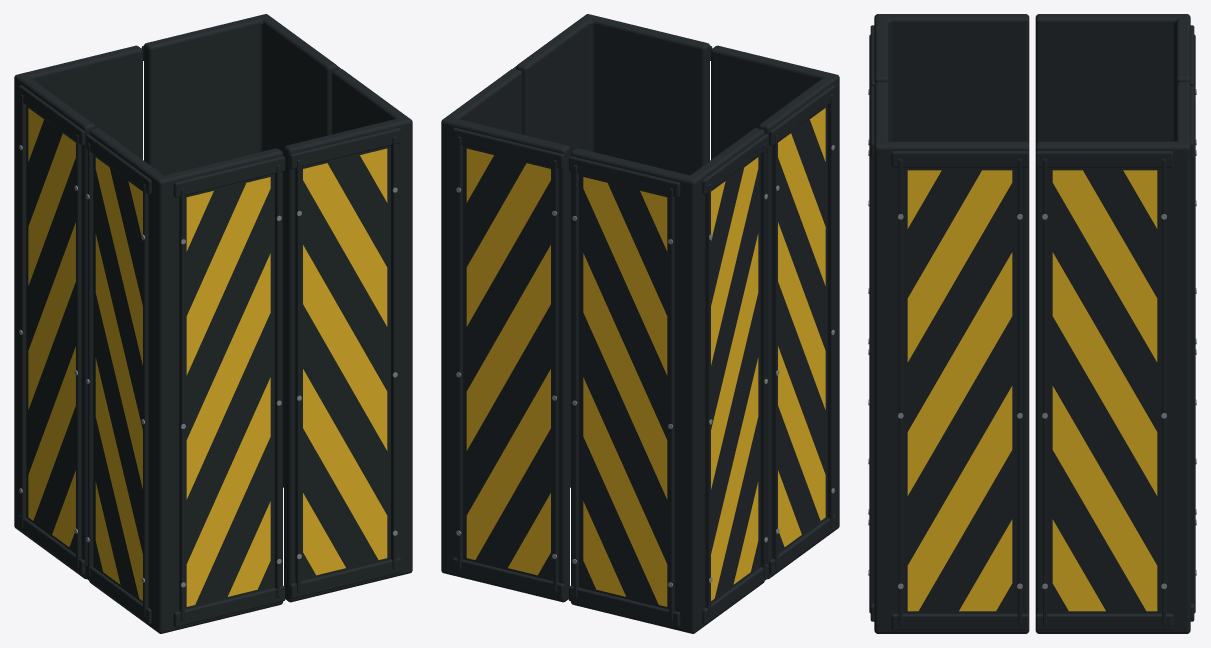
Rendered from SM_WS_RubberColumnWrap_450.fbx.
3 renders of one model, left to right at view 1: azimuth 30°, elevation 25°; view 2: azimuth 150°, elevation 25°; view 3: azimuth 270°, elevation 25°, orthographic. The views are drawn at different scales.
Visible parts, largest first — view 1: SM_WS_RubberColumnWrap_450; view 2: SM_WS_RubberColumnWrap_450; view 3: SM_WS_RubberColumnWrap_450.
Boxes of the visible parts, box(x1,y1,x2,y2) form: SM_WS_RubberColumnWrap_450: box(14, 14, 412, 633); SM_WS_RubberColumnWrap_450: box(441, 14, 839, 633); SM_WS_RubberColumnWrap_450: box(868, 14, 1196, 633).
Bounding box in the file's own units: 0.523 × 0.523 × 0.86.
